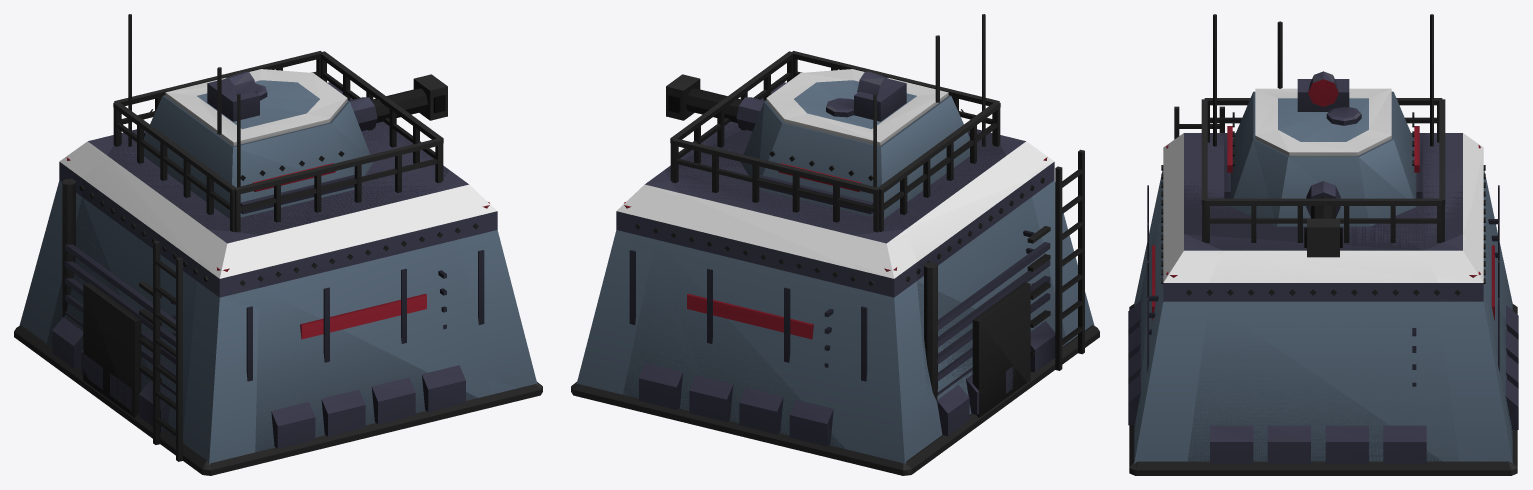
The model's file is veyran_defence_tower.glb.
3 renders of one model, left to right at view 1: azimuth 30°, elevation 25°; view 2: azimuth 150°, elevation 25°; view 3: azimuth 270°, elevation 25°, orthographic.
Parts seen in each view (by area): view 1: body (×2), turret, barrel; view 2: body (×2), turret, barrel; view 3: body (×2), turret, barrel.
Boxes of the visible parts, x1,y1,x2,y2 form: body (×2): (14, 14, 542, 475); turret: (144, 67, 373, 218); barrel: (349, 74, 447, 131); body (×2): (571, 14, 1099, 475); turret: (740, 35, 969, 218); barrel: (666, 74, 764, 131); body (×2): (1128, 14, 1518, 475); turret: (1224, 21, 1422, 226); barrel: (1304, 181, 1342, 257).
Size of the model in its own units: 3.85 by 3.55 by 3.78.
